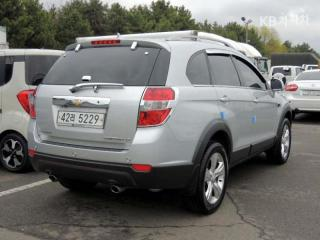2: (89, 114, 94, 124), (84, 114, 89, 123), (66, 113, 70, 122)
4: (60, 112, 66, 122)
5: (78, 113, 84, 123)
9: (94, 114, 99, 125)
plate: (52, 107, 114, 131)
러: (70, 113, 76, 123)
